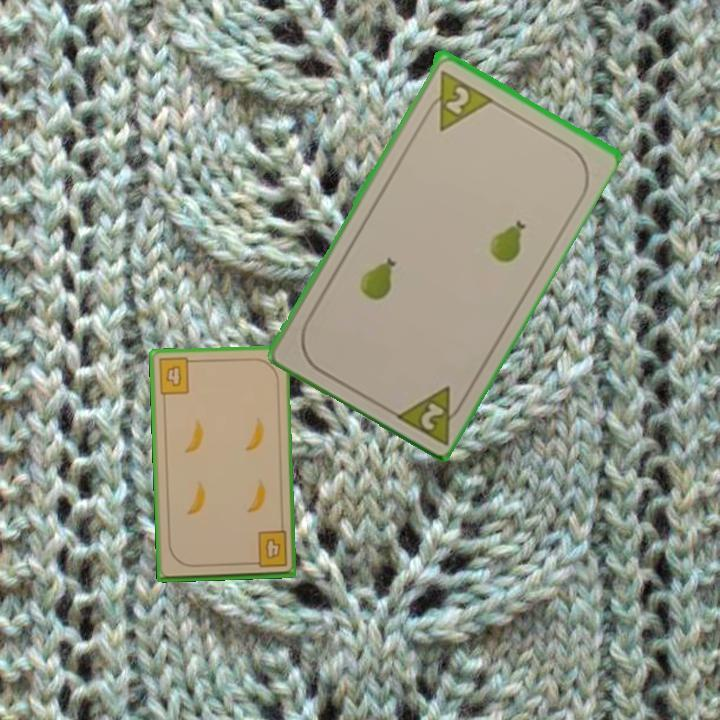2p: (389, 381, 470, 447), (418, 66, 494, 133)
4b: (246, 528, 290, 571), (155, 354, 198, 397)
